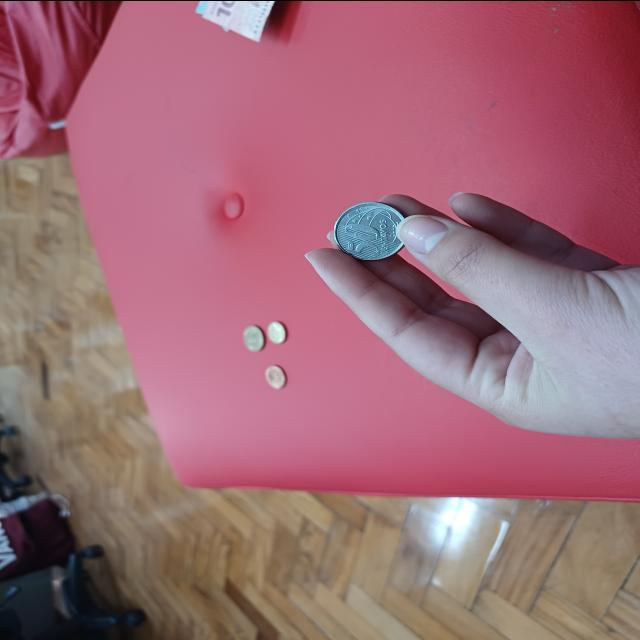50 cents: (329, 199, 408, 260)
